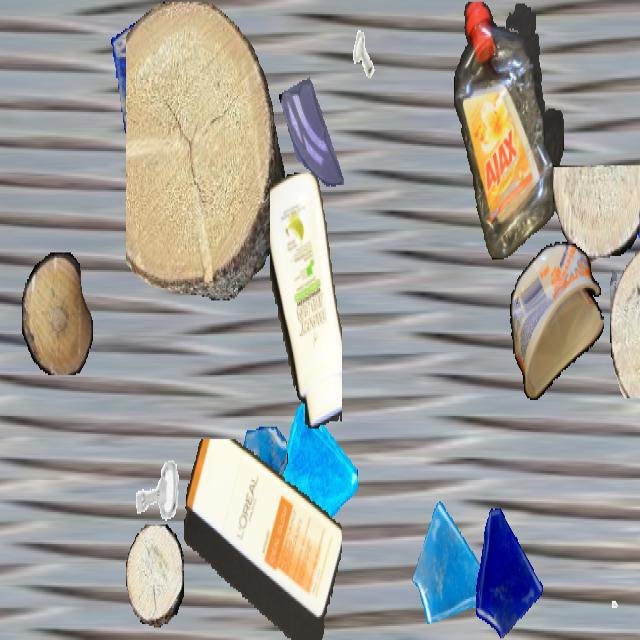glass: (264, 400, 358, 567), (111, 2, 203, 165), (412, 496, 492, 638), (467, 500, 545, 638), (278, 68, 348, 192), (228, 427, 288, 533), (620, 167, 640, 292)
metal: (183, 165, 241, 268), (130, 441, 186, 540), (345, 21, 383, 89), (587, 553, 625, 620)
plastic: (184, 439, 342, 638), (453, 2, 563, 258), (270, 172, 342, 428), (510, 242, 604, 402)
wood: (126, 2, 284, 300), (22, 252, 92, 374), (553, 166, 640, 262), (126, 524, 184, 628), (610, 242, 640, 398)
